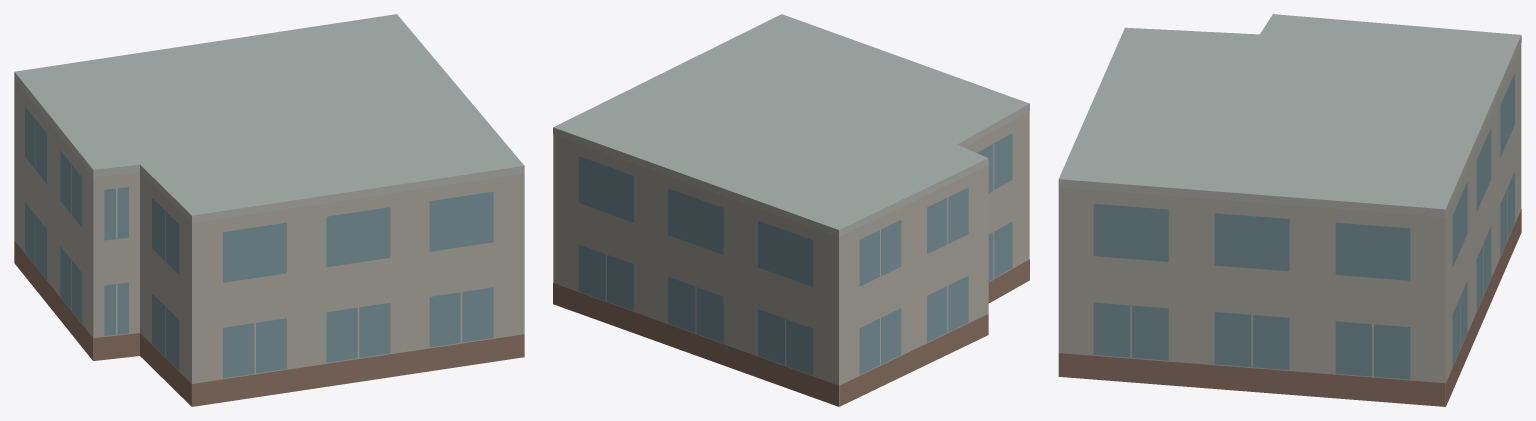
The model's file is survey-upis-32665122.glb.
3 renders of one model, left to right at view 1: azimuth 30°, elevation 25°; view 2: azimuth 150°, elevation 25°; view 3: azimuth 270°, elevation 25°, orthographic. The views are drawn at different scales.
Parts seen in each view (by area): view 1: survey-upis-32665122.tmp; view 2: survey-upis-32665122.tmp; view 3: survey-upis-32665122.tmp.
Part boxes in pixels (x1,y1,x2,y2): survey-upis-32665122.tmp: (14,14,524,406); survey-upis-32665122.tmp: (553,14,1029,406); survey-upis-32665122.tmp: (1058,14,1521,406).
Bounding box in the file's own units: 12.94 × 6.1 × 12.96.
